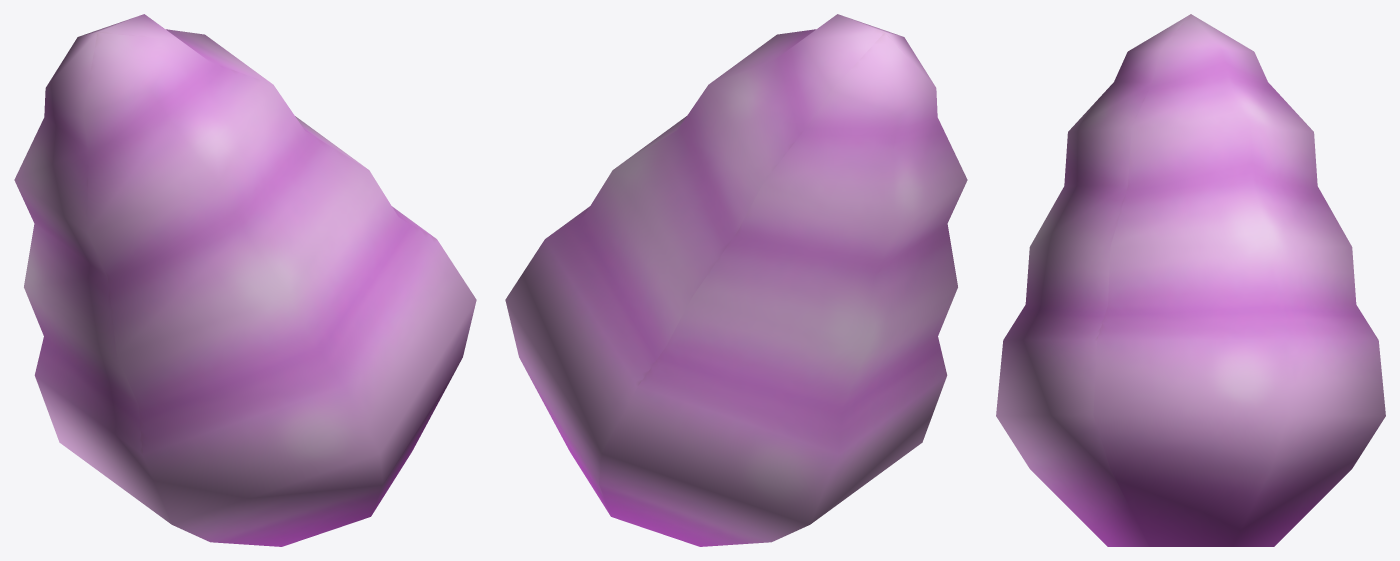
The model's file is Beach_shell_05.fbx.
3 views of the same model, side by side, from view 1: azimuth 30°, elevation 25°; view 2: azimuth 150°, elevation 25°; view 3: azimuth 270°, elevation 25° (orthographic). The views are drawn at different scales.
Visible parts, largest first — view 1: Beach_shell_05; view 2: Beach_shell_05; view 3: Beach_shell_05.
Boxes of the visible parts, x1=… form: Beach_shell_05: x1=14, y1=14, x2=476, y2=546; Beach_shell_05: x1=505, y1=14, x2=967, y2=546; Beach_shell_05: x1=996, y1=14, x2=1385, y2=546.
Size of the model in its own units: 47.41 by 65.67 by 49.91.
